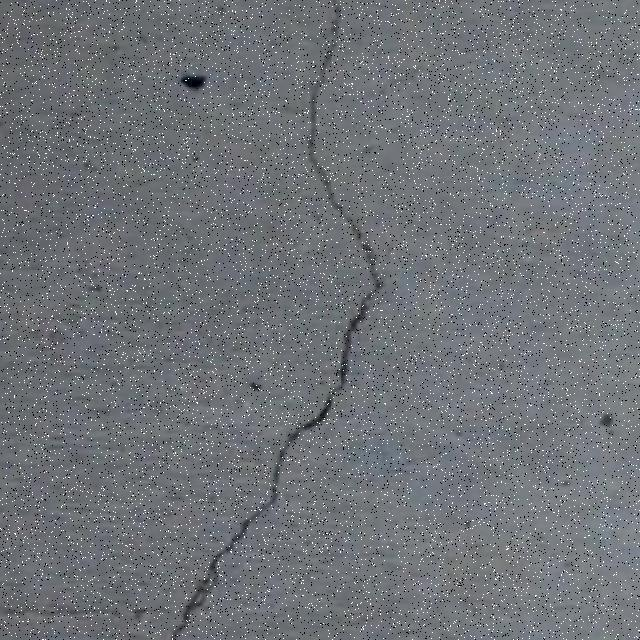moderate crack: (268, 398, 336, 490)
severe crack: (393, 1, 640, 632), (168, 25, 391, 637), (303, 24, 355, 232), (333, 282, 376, 387)
